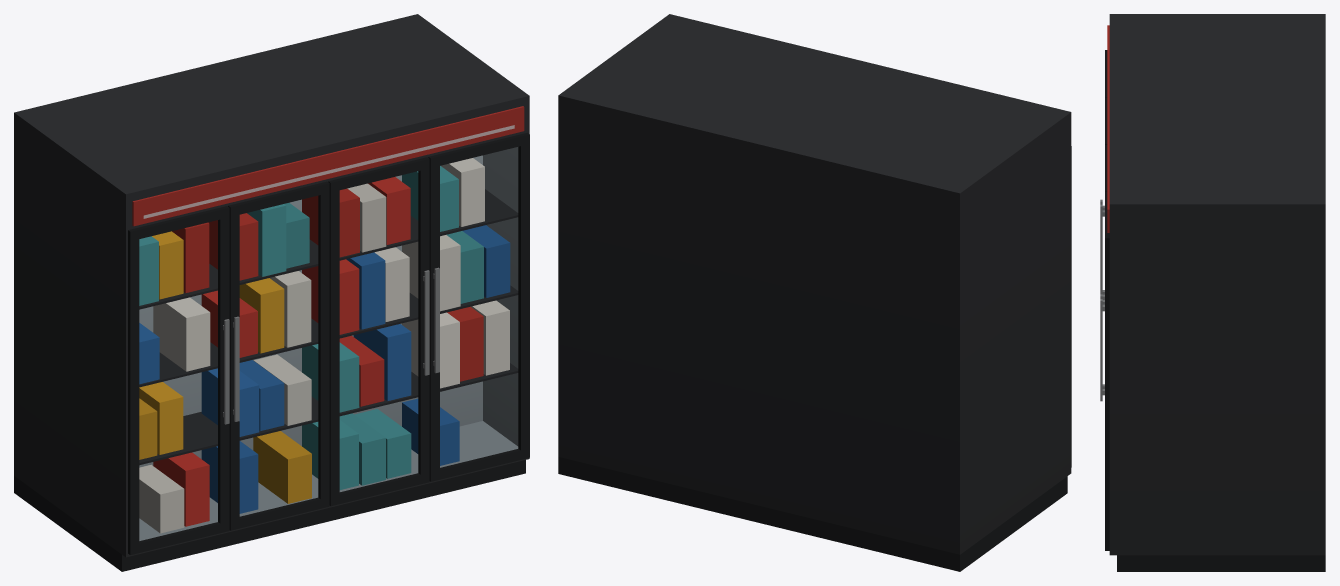
File: appliance.freezer_upright.black.glb
The picture shows the model from 3 angles, left to right: view 1: azimuth 30°, elevation 25°; view 2: azimuth 150°, elevation 25°; view 3: azimuth 270°, elevation 25°; orthographic projection. The views are drawn at different scales.
Parts seen in each view (by area): view 1: appliance_freezer_upright_black; view 2: appliance_freezer_upright_black; view 3: appliance_freezer_upright_black.
Part boxes in pixels (x1,y1,x2,y2): appliance_freezer_upright_black: (14,14,529,571); appliance_freezer_upright_black: (558,14,1071,571); appliance_freezer_upright_black: (1100,14,1325,571).
Size of what is drawn, in the model's own units: 2.44 by 2.2 by 1.22.
